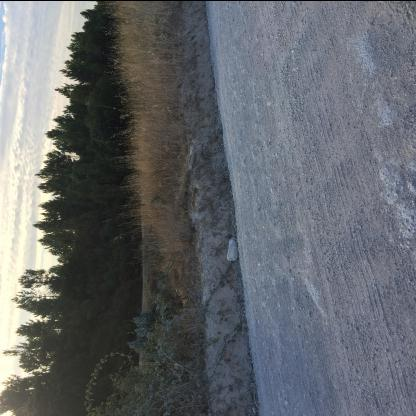plastik: (228, 237, 240, 262)
